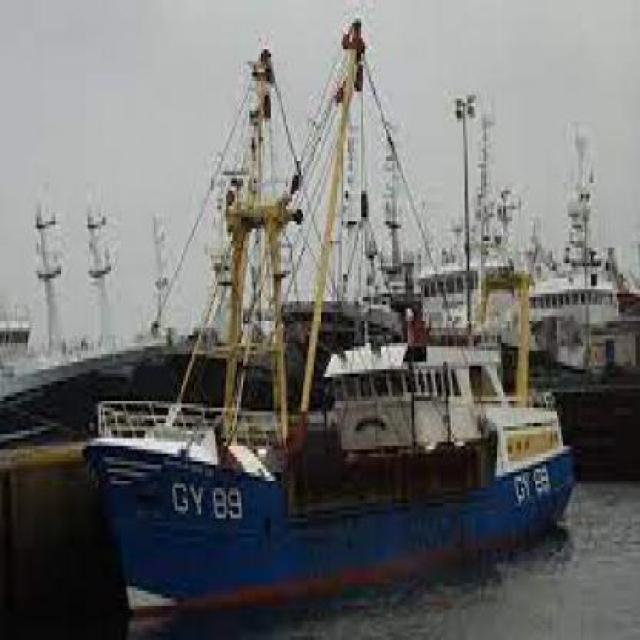fish-b: (82, 19, 589, 615)
